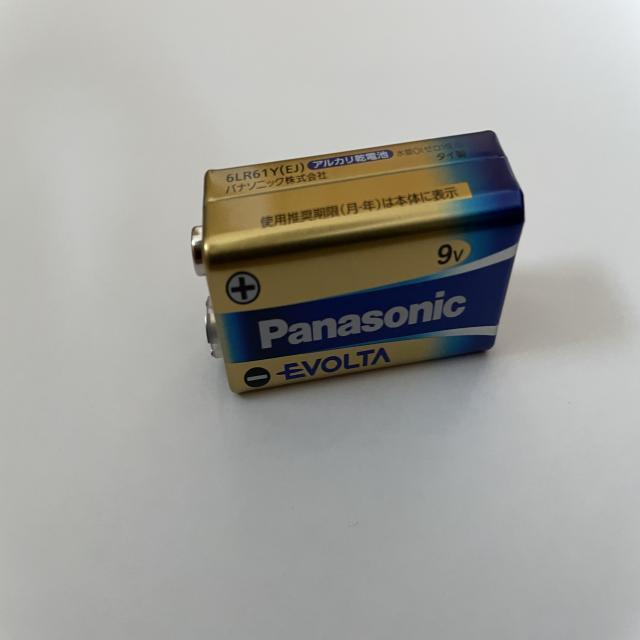9V: (182, 123, 535, 402)
